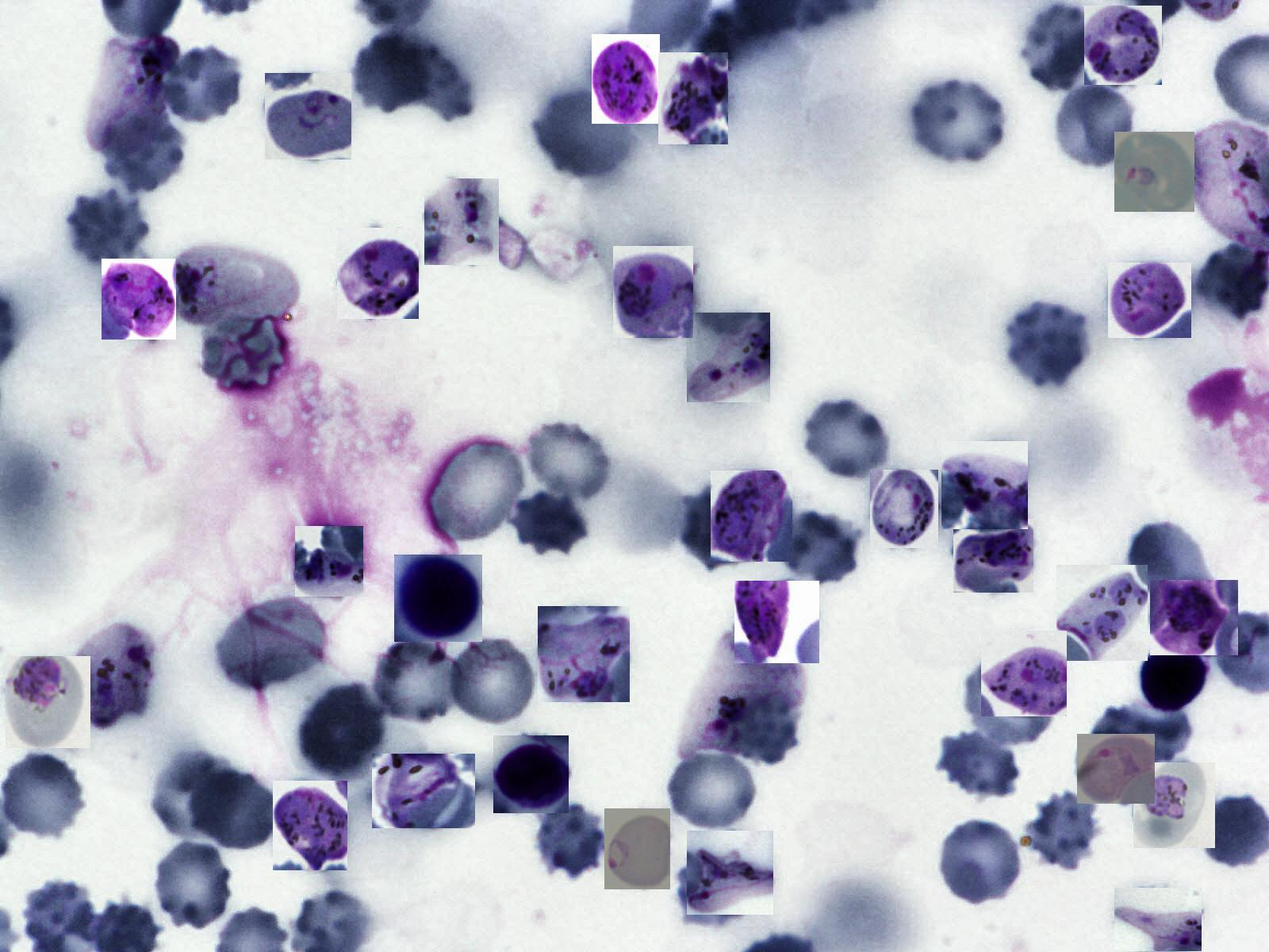Infected: (679, 635, 801, 755), (86, 31, 180, 151), (170, 246, 298, 326), (68, 623, 158, 731), (538, 606, 630, 702), (1056, 565, 1148, 661), (6, 656, 90, 748), (394, 555, 482, 642), (941, 441, 1028, 529), (372, 754, 475, 828), (711, 470, 792, 562), (265, 73, 351, 159), (687, 313, 770, 402), (338, 228, 419, 319), (614, 246, 694, 338), (981, 631, 1067, 716), (687, 831, 773, 915), (734, 581, 819, 663), (1133, 763, 1215, 848), (1150, 580, 1238, 655), (273, 781, 347, 870), (424, 178, 499, 265), (658, 52, 728, 144), (1114, 132, 1194, 212), (1108, 263, 1191, 338), (1084, 6, 1162, 85), (592, 34, 660, 124), (102, 259, 176, 340), (493, 735, 569, 813), (953, 519, 1033, 593), (1114, 888, 1202, 951), (1140, 638, 1207, 720), (1077, 734, 1155, 804), (604, 808, 670, 889), (870, 470, 938, 548), (295, 526, 363, 597)
Uninfected: (219, 596, 328, 693), (369, 635, 467, 729), (531, 90, 634, 178), (148, 748, 240, 844), (432, 444, 523, 541), (933, 818, 1027, 908), (298, 682, 388, 774), (910, 79, 1004, 161), (1008, 300, 1091, 389), (189, 769, 280, 849), (1091, 700, 1192, 772), (1023, 1, 1102, 91), (451, 638, 533, 723), (103, 109, 185, 192), (968, 660, 1053, 740), (2, 755, 82, 837), (68, 188, 151, 267), (1056, 82, 1133, 167), (803, 401, 889, 477), (155, 843, 229, 931), (353, 30, 431, 113), (667, 753, 753, 828), (527, 421, 611, 497), (531, 801, 608, 882), (1022, 790, 1099, 870), (1128, 523, 1206, 601), (163, 44, 237, 124), (782, 509, 860, 584), (1194, 244, 1269, 321), (937, 731, 1019, 800), (679, 487, 746, 570), (509, 492, 588, 555)
